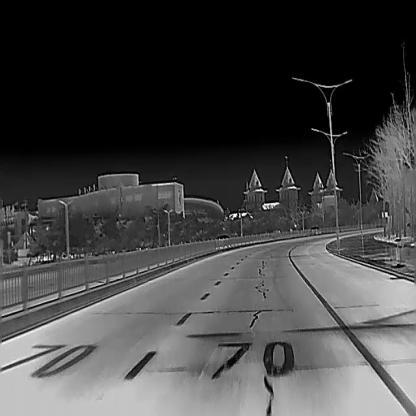car: (215, 234, 230, 247), (309, 226, 320, 235), (272, 229, 282, 238)
